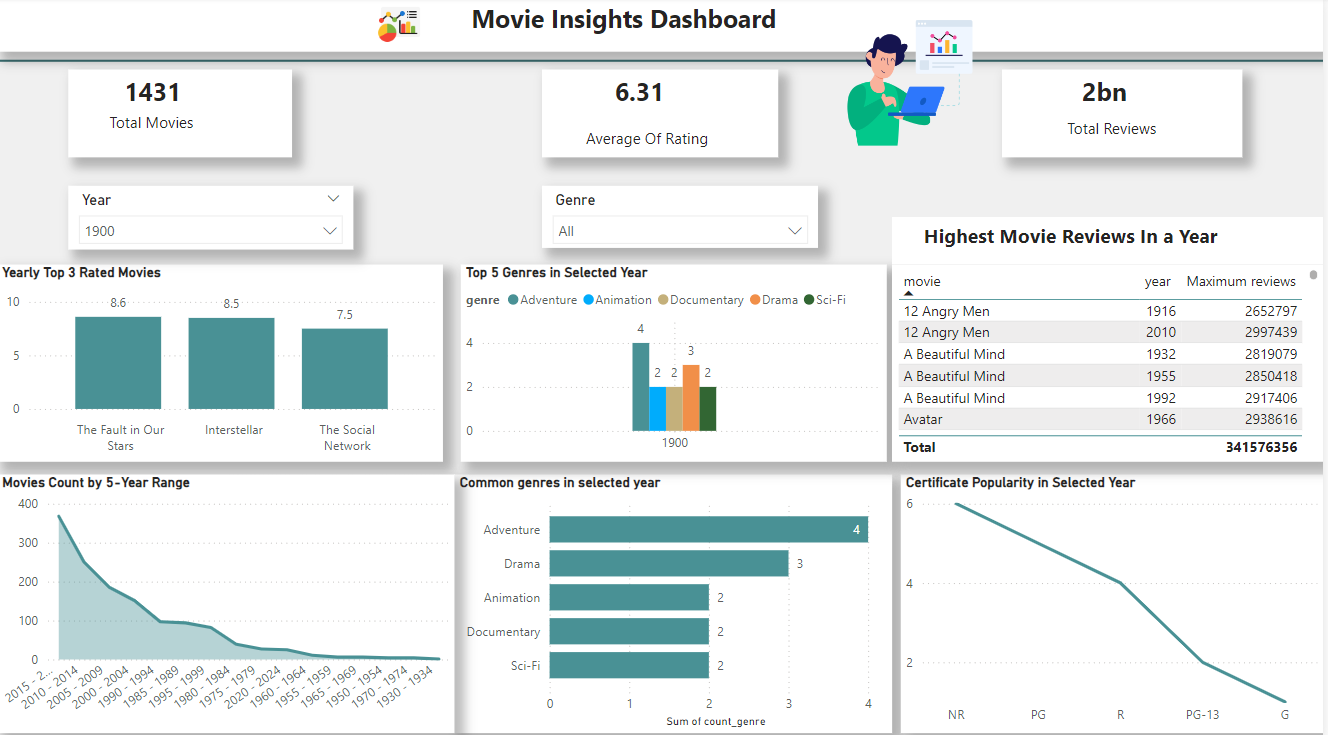

The page's visual inventory and layout, read from the dashboard file:
{"tool":"powerbi","page":{"name":"Page 1","canvas":[1280,720],"ordinal":0},"visuals":[{"type":"columnChart","title":"Yearly Top 3 Rated Movies","fields":{"Category":["Query1.movie"],"Y":["Sum(Query1.rating)"]},"box":[0,258.2,430.7,190.6],"z":0},{"type":"slicer","fields":{"Values":["movies2.Year"]},"box":[68.8,182.2,275.1,61.5],"z":1000},{"type":"barChart","title":"Common genres in selected year","fields":{"Y":["Sum(Query4.count_genre)"],"Category":["Query4.genre","Query4.year"]},"box":[441.6,460.9,422.3,249.7],"z":2000},{"type":"areaChart","title":"Movies Count by 5-Year Range","fields":{"Category":["Query5.YearRange"],"Y":["Sum(Query5.MovieCount)"]},"box":[0,460.9,441.6,249.7],"z":3000},{"type":"lineChart","title":"Certificate Popularity in Selected Year","fields":{"Category":["Query6.certificate"],"Y":["Sum(Query6.count_cer)"]},"box":[872.3,460.9,407.8,249.7],"z":4000},{"type":"slicer","fields":{"Values":["movies2.Genre"]},"box":[526,182.2,266.6,60.3],"z":5000},{"type":"clusteredColumnChart","title":"Top 5 Genres in Selected Year","fields":{"Category":["Query4.year"],"Y":["Sum(Query4.count_genre)"],"Series":["Query4.genre"]},"box":[447.6,258,410.9,190.8],"z":6000},{"type":"tableEx","fields":{"Values":["Query7.movie","Query7.year","Sum(Query7.reviews)"]},"box":[863.8,258.2,416.2,190.6],"z":7000},{"type":"shape","box":[0,53.1,1280,16.9],"z":8000},{"type":"textbox","box":[0,0,1280,53.1],"z":9000},{"type":"textbox","box":[68.8,70,216,84.5],"z":9001},{"type":"textbox","box":[526,70,228,84.5],"z":9002},{"type":"textbox","box":[970,70,231.6,84.5],"z":9004},{"type":"image","box":[335.4,0,106.2,53.1],"z":9005},{"type":"image","box":[811.9,12.1,138.7,142.4],"z":9006}]}

Visuals, with their boxes in screenshot pixels (x1, y1, x2, y2), scaled from the page's 1280x720 canvas onto the 1328x735 screenshot:
"Yearly Top 3 Rated Movies" columnChart: bbox(0, 264, 447, 458)
slicer - movies2.Year: bbox(71, 186, 357, 249)
"Common genres in selected year" barChart: bbox(458, 471, 896, 725)
"Movies Count by 5-Year Range" areaChart: bbox(0, 471, 458, 725)
"Certificate Popularity in Selected Year" lineChart: bbox(905, 471, 1327, 725)
slicer - movies2.Genre: bbox(546, 186, 822, 248)
"Top 5 Genres in Selected Year" clusteredColumnChart: bbox(464, 263, 891, 458)
tableEx - Query7.movie x Query7.year: bbox(896, 264, 1327, 458)
shape: bbox(0, 54, 1327, 71)
textbox: bbox(0, 0, 1327, 54)
textbox: bbox(71, 71, 295, 158)
textbox: bbox(546, 71, 782, 158)
textbox: bbox(1006, 71, 1247, 158)
image: bbox(348, 0, 458, 54)
image: bbox(842, 12, 986, 158)
